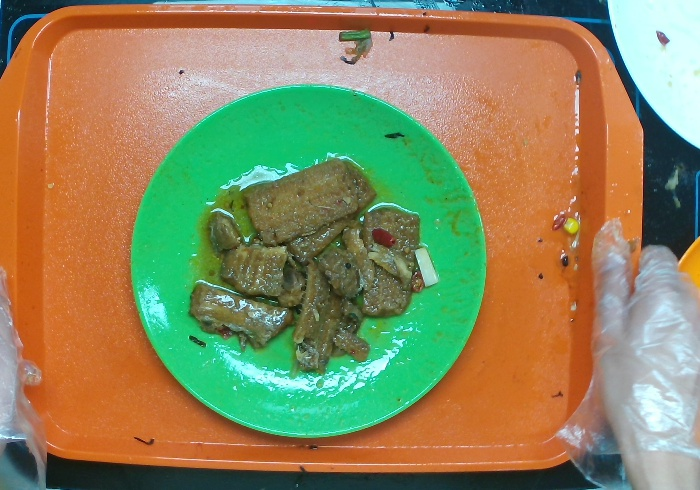HZYJPL-Lv_Se_Yuan_Pan: (113, 74, 498, 457)
